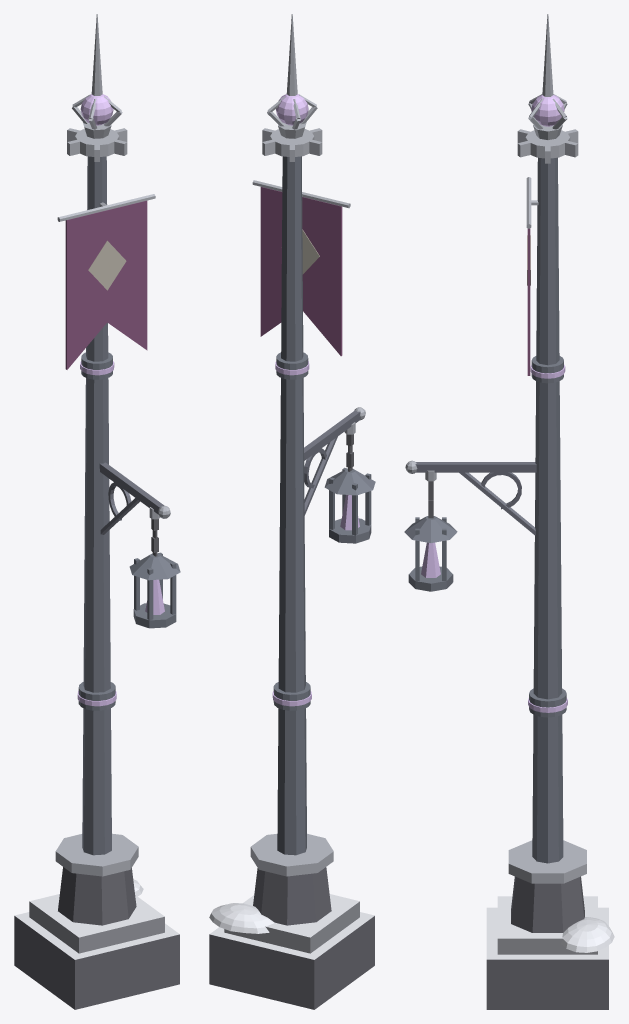
The model's file is PR_Mastro_Feira.fbx.
3 renders of one model, left to right at view 1: azimuth 30°, elevation 25°; view 2: azimuth 150°, elevation 25°; view 3: azimuth 270°, elevation 25°, orthographic.
Visible parts, largest first — view 1: PR_Mastro_Feira; view 2: PR_Mastro_Feira; view 3: PR_Mastro_Feira.
Part boxes in pixels (x1,y1,x2,y2): PR_Mastro_Feira: [14, 14, 180, 1009]; PR_Mastro_Feira: [209, 14, 375, 1009]; PR_Mastro_Feira: [404, 14, 614, 1009].
Bounding box in the file's own units: 1.2 × 9.61 × 1.89.
